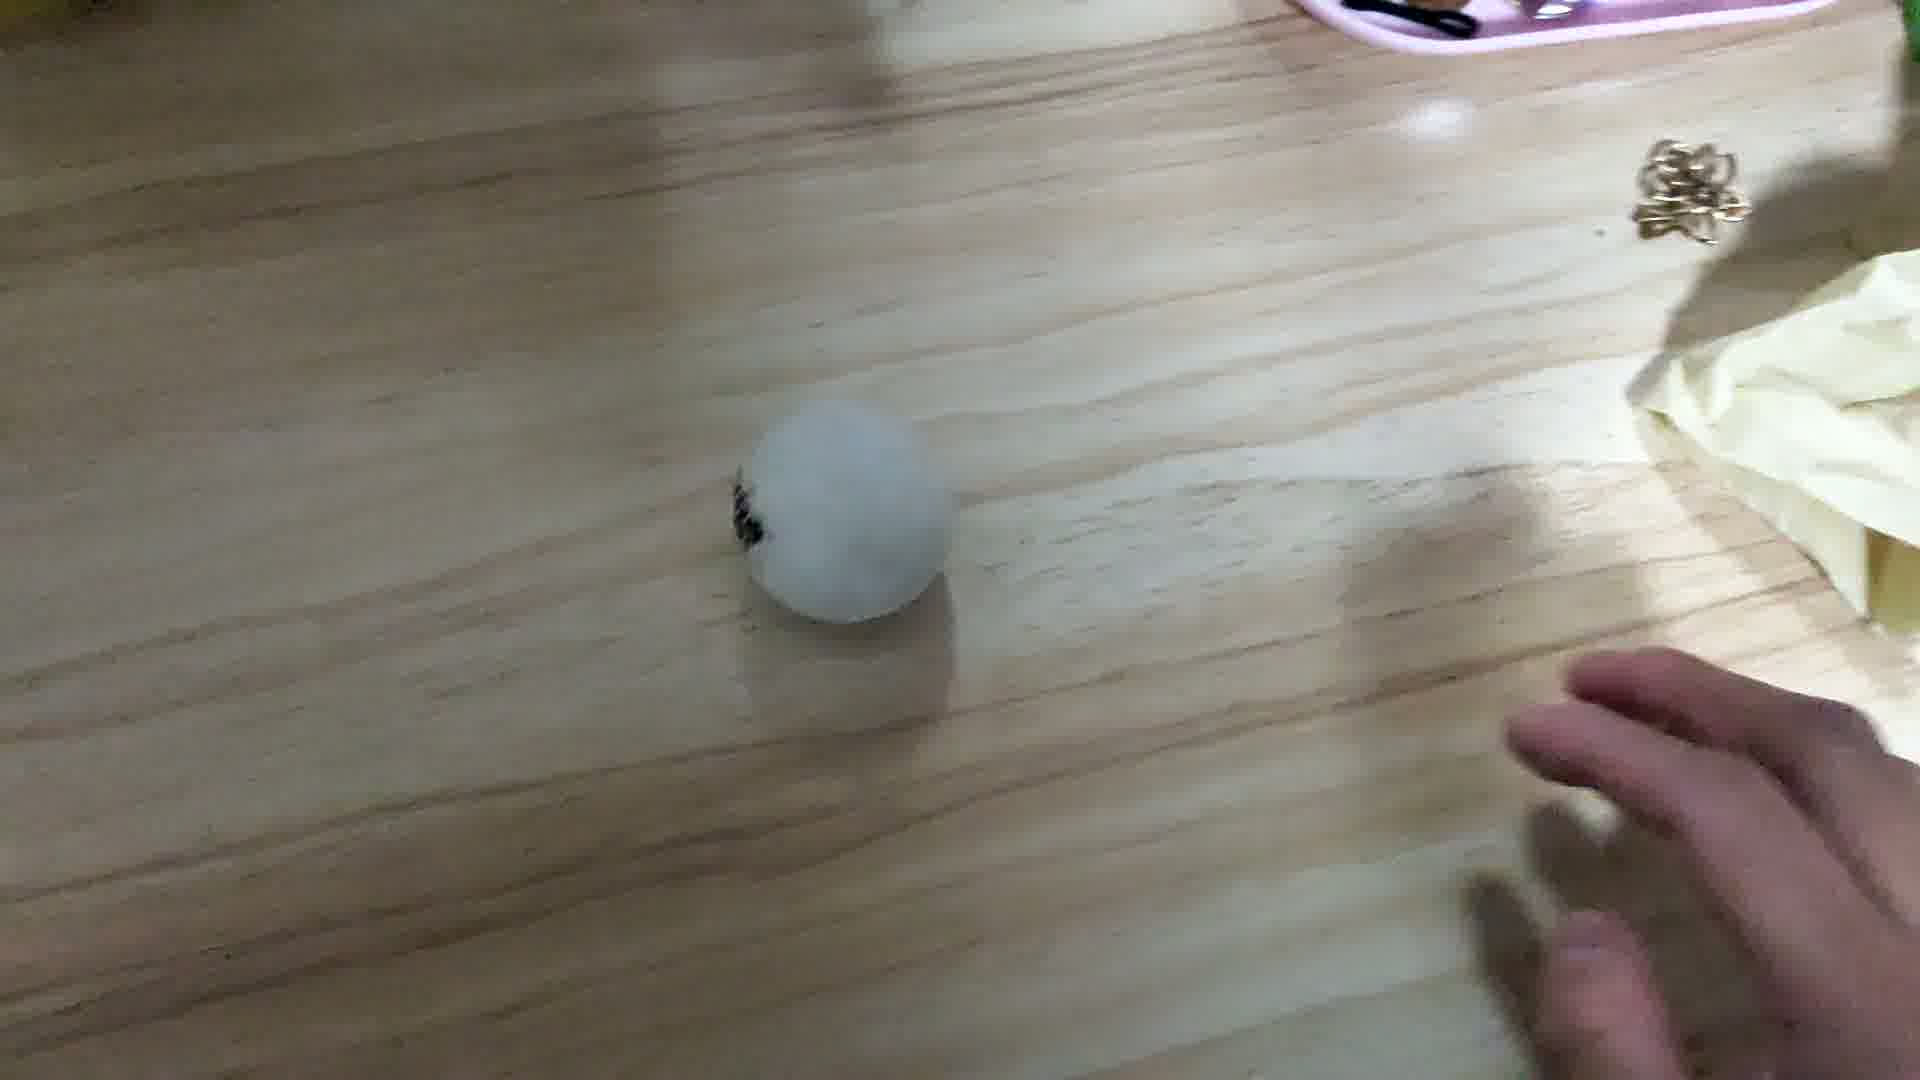Ball: (731, 390, 959, 621)
